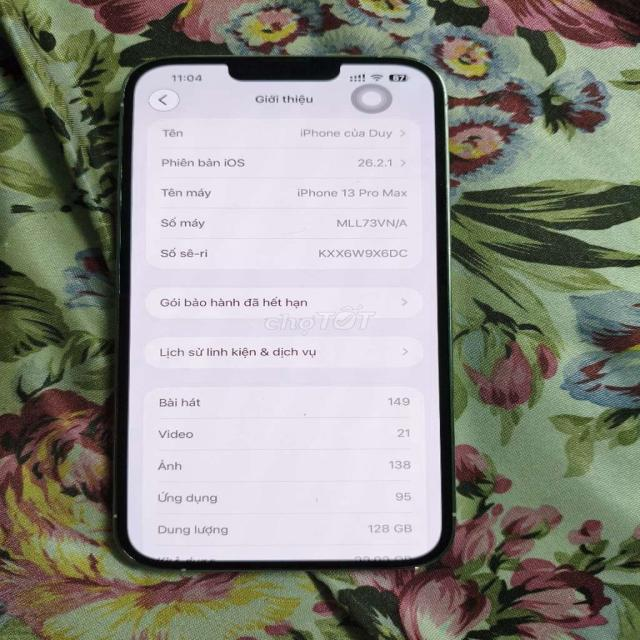gen_12_13: (113, 54, 451, 572)
